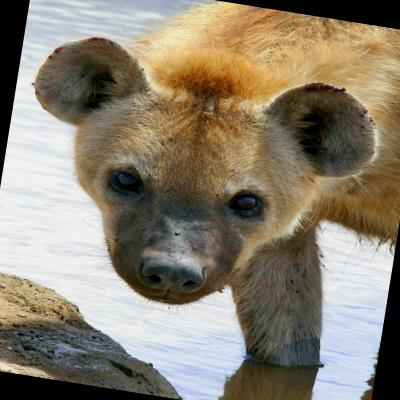hyenas: (0, 0, 400, 386)
